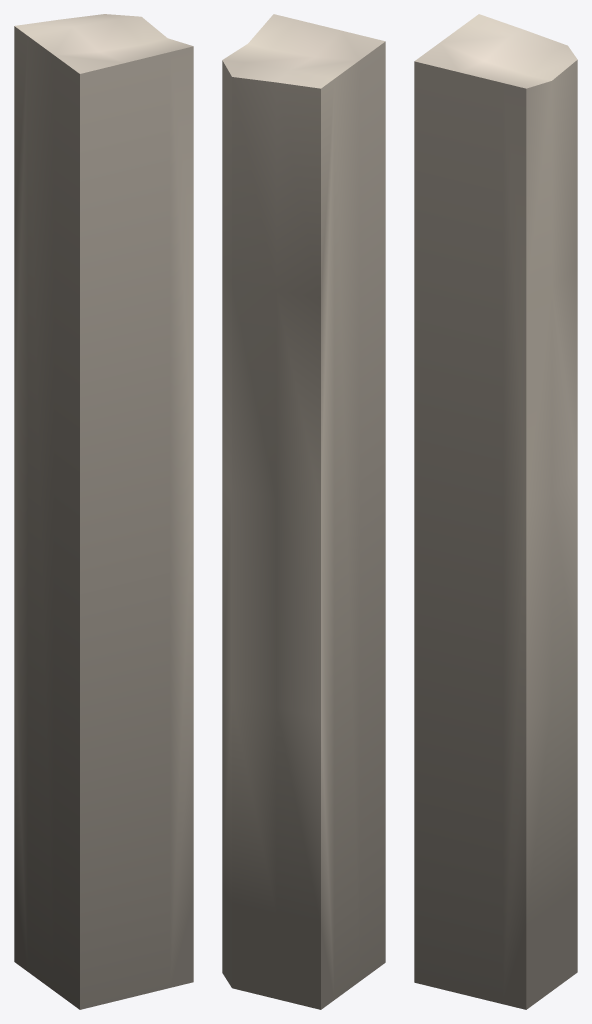
File: SM_VKI_Rock_Cave_FOOO_WallSEW.fbx
3 renders of one model, left to right at view 1: azimuth 30°, elevation 25°; view 2: azimuth 150°, elevation 25°; view 3: azimuth 330°, elevation 25°, orthographic.
Visible parts, largest first — view 1: SM_VKI_Rock_Cave_FOOO_WallSEW.001; view 2: SM_VKI_Rock_Cave_FOOO_WallSEW.001; view 3: SM_VKI_Rock_Cave_FOOO_WallSEW.001.
Boxes of the visible parts, <box> form: SM_VKI_Rock_Cave_FOOO_WallSEW.001: <box>14,14,193,1009</box>; SM_VKI_Rock_Cave_FOOO_WallSEW.001: <box>222,14,385,1009</box>; SM_VKI_Rock_Cave_FOOO_WallSEW.001: <box>414,14,577,1009</box>.
Size of the model in its own units: 0.42 by 3.3 by 0.42.
